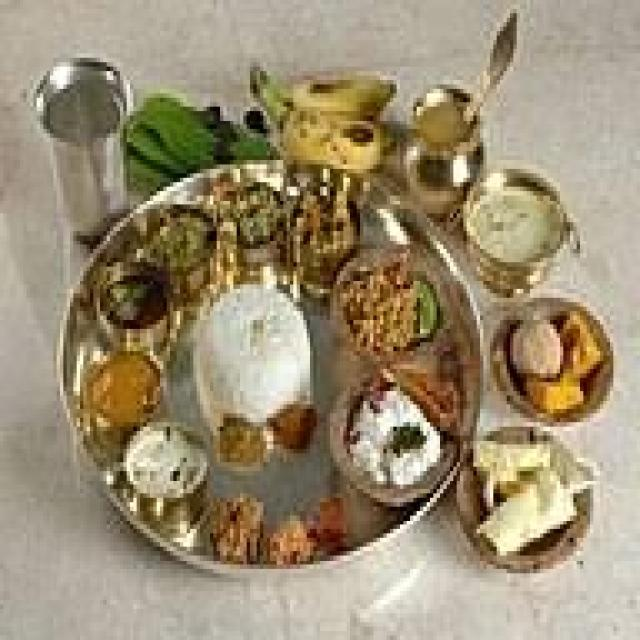dal: (461, 171, 569, 289)
pickle: (293, 493, 362, 566)
raita: (347, 375, 447, 509)
sweet: (79, 215, 195, 356), (497, 304, 584, 424), (78, 347, 170, 437)
